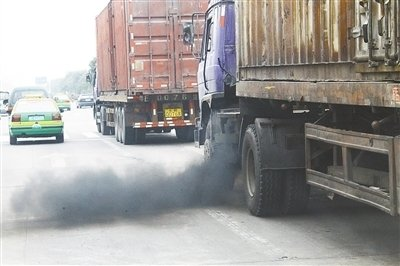smoke: (10, 156, 244, 228)
